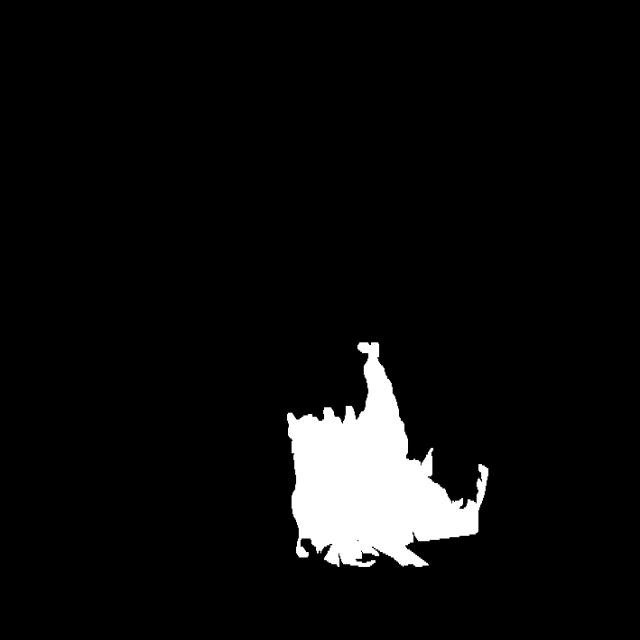fire: (234, 334, 502, 588)
